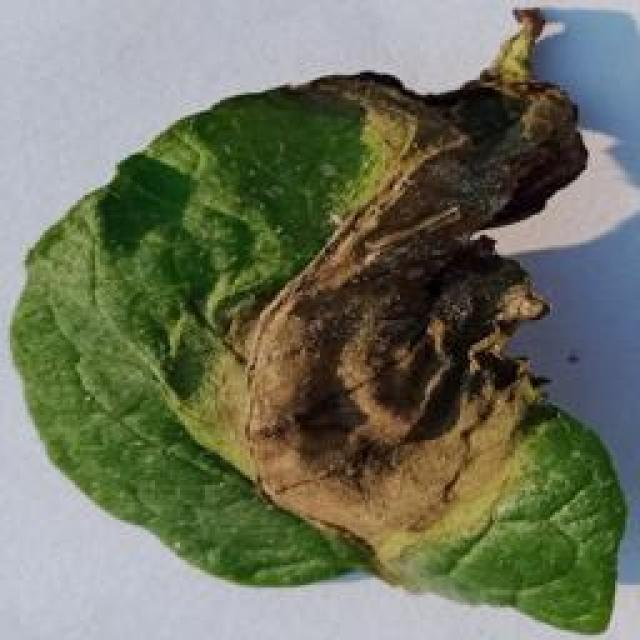Potato_Late_Blight: (10, 14, 619, 634)
